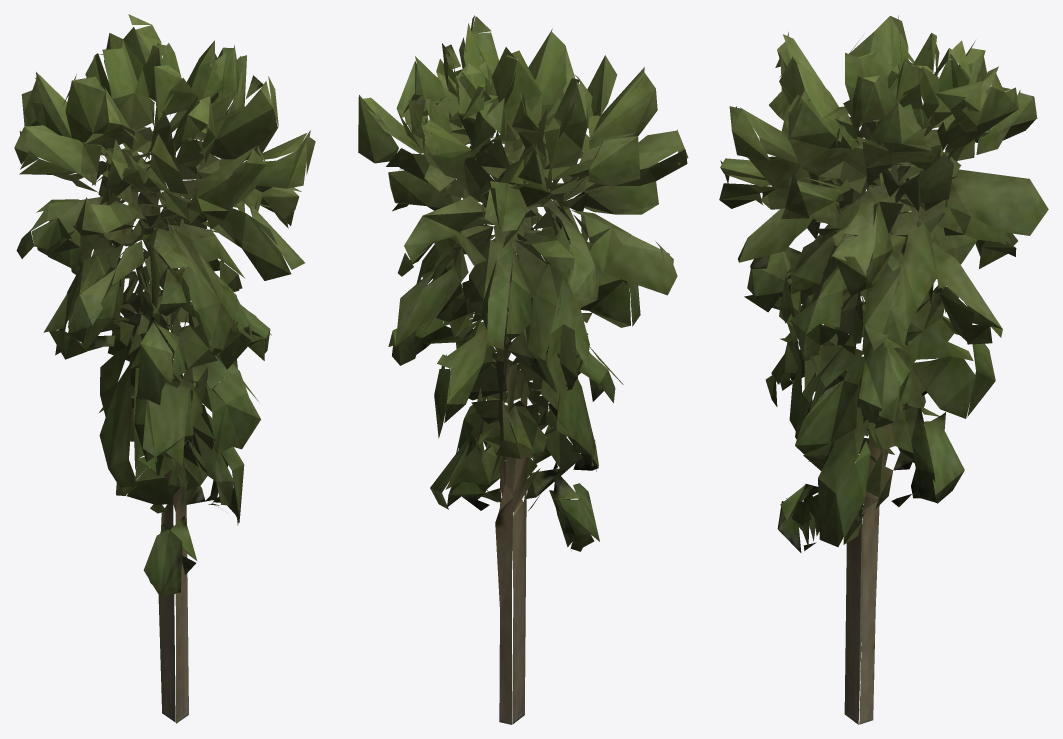
The model's file is x-pin.glb.
3 views of the same model, side by side, from view 1: azimuth 30°, elevation 25°; view 2: azimuth 150°, elevation 25°; view 3: azimuth 270°, elevation 25° (orthographic). The views are drawn at different scales.
Visible parts, largest first — view 1: geometry_0; view 2: geometry_0; view 3: geometry_0.
Boxes of the visible parts, x1,y1,x2,y2 form: geometry_0: (14, 14, 315, 723); geometry_0: (358, 15, 688, 724); geometry_0: (719, 15, 1048, 724).
Size of the model in its own units: 0.4289 by 1.03 by 0.4491.
1 material, 1 textured.
